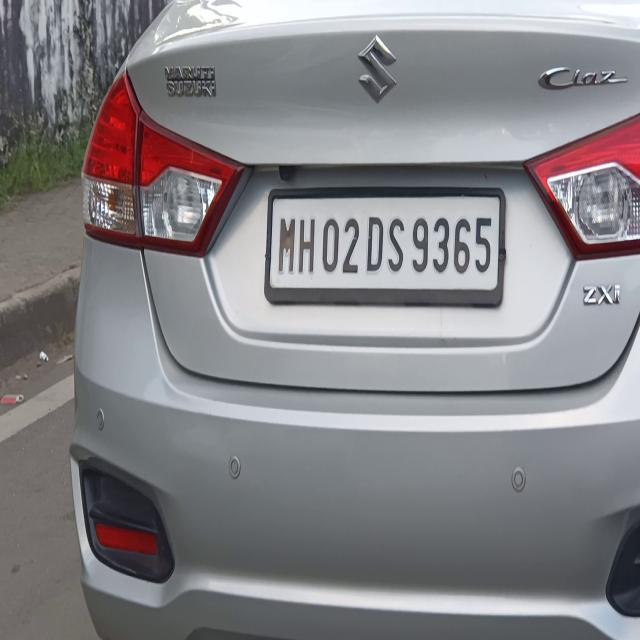license-plate: (270, 197, 498, 290)
